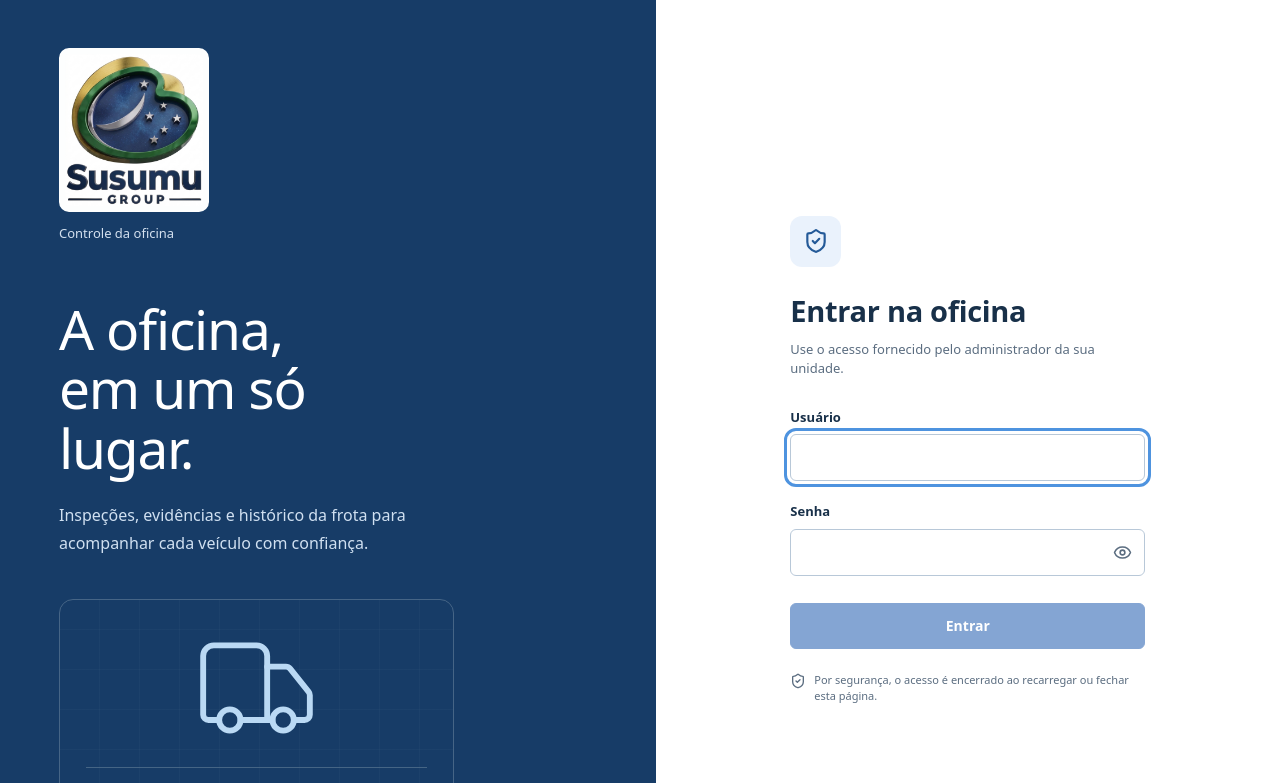
Test case: login session UI › displays credential rejection and clears password without entering
Type "office" into the field labelled "Usuário". click: (968, 458)
box: left=790, top=434, right=1145, bottom=481
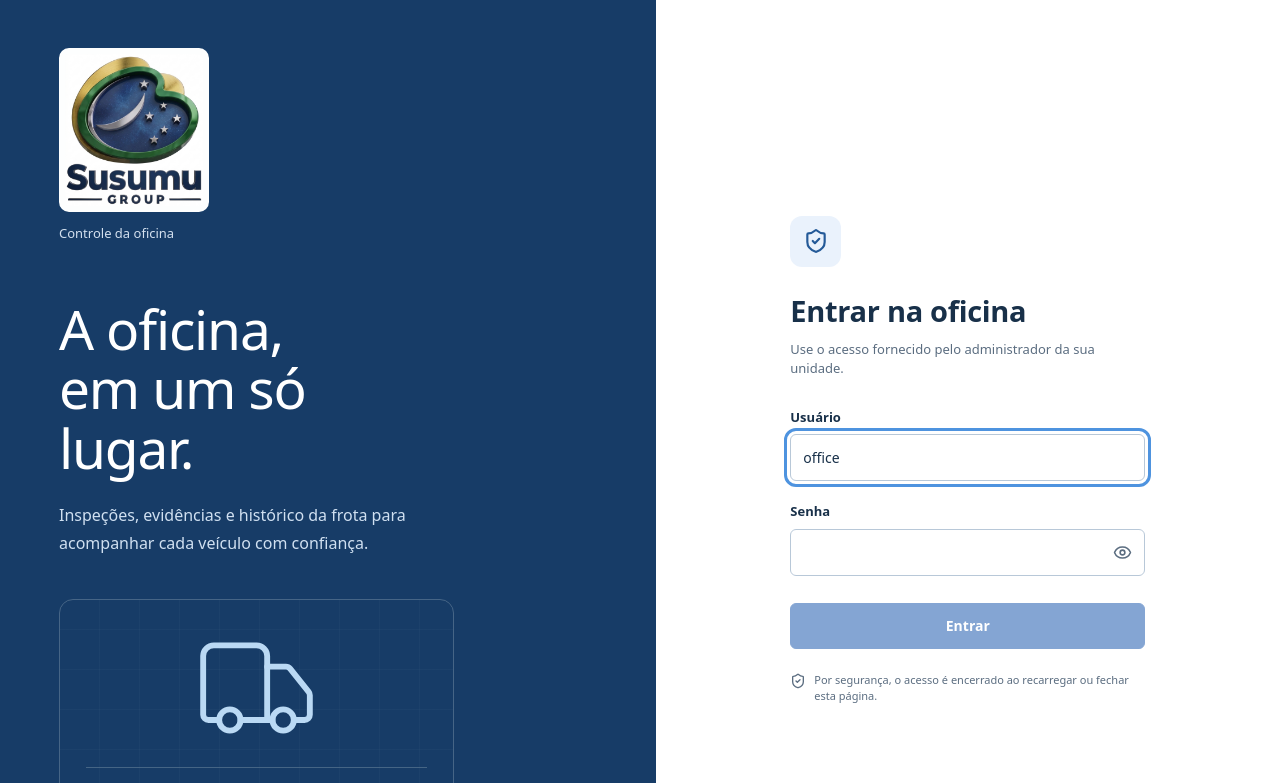
Type "test-only-password" into the password field labelled "Senha". click: (968, 552)
box: left=790, top=529, right=1145, bottom=576
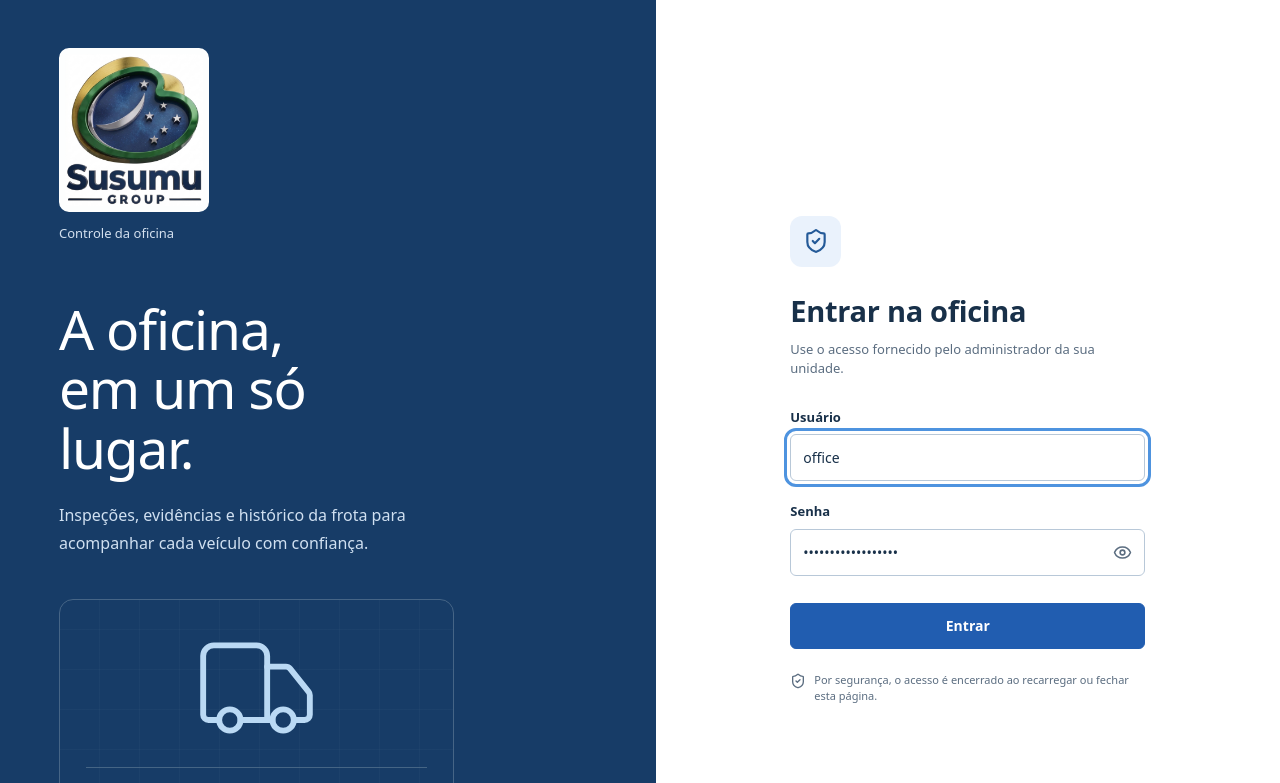
Click the button "Entrar". click: click(968, 626)
box: left=790, top=603, right=1145, bottom=649
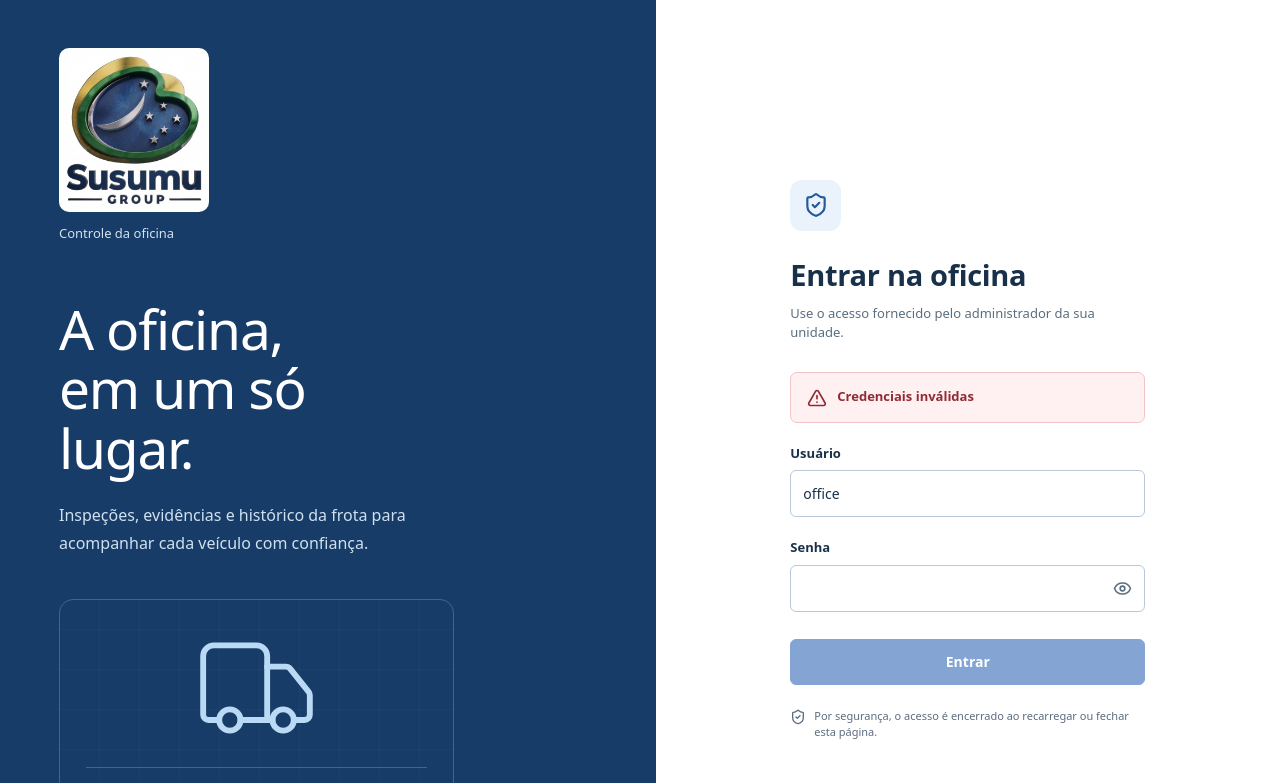
Result: the message reads "Credenciais inválidas" at left=837, top=387, right=974, bottom=405
Result: the password field labelled "Senha" is empty at left=790, top=565, right=1145, bottom=612
